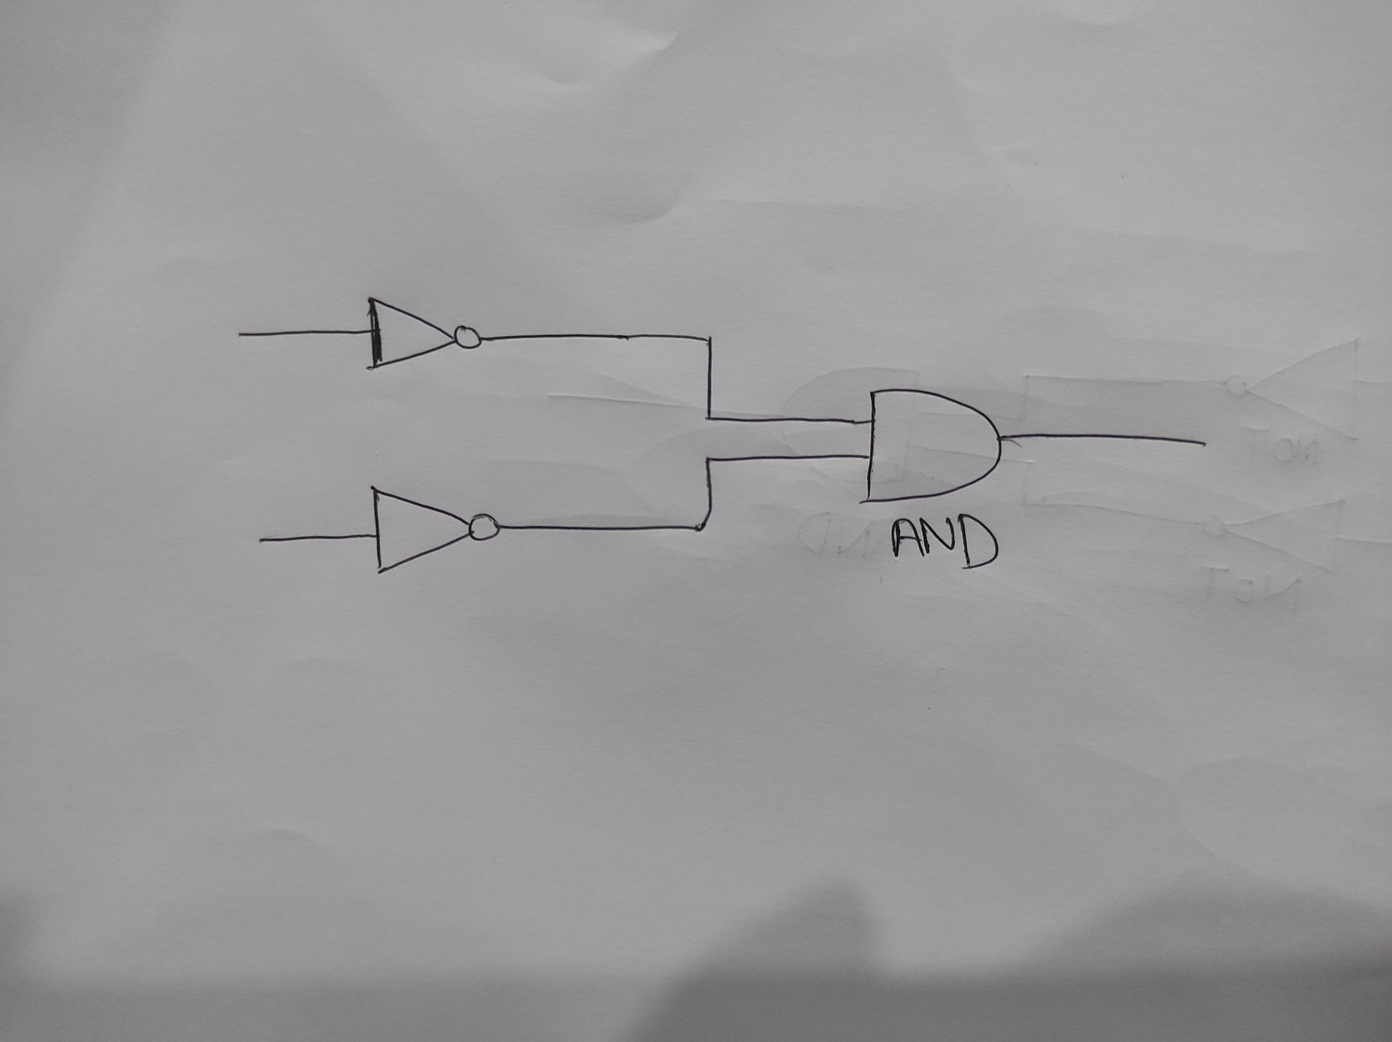and: (857, 385, 1006, 506)
junction: (691, 517, 711, 539), (699, 328, 719, 350), (698, 450, 717, 470), (700, 408, 718, 429)
not: (367, 484, 504, 576), (363, 294, 485, 372)
terminal: (248, 530, 282, 551), (229, 325, 259, 344), (1194, 435, 1213, 451)
text: (883, 509, 1004, 572)
